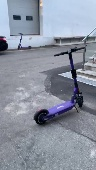beam: (32, 46, 89, 126), (16, 32, 32, 51)
